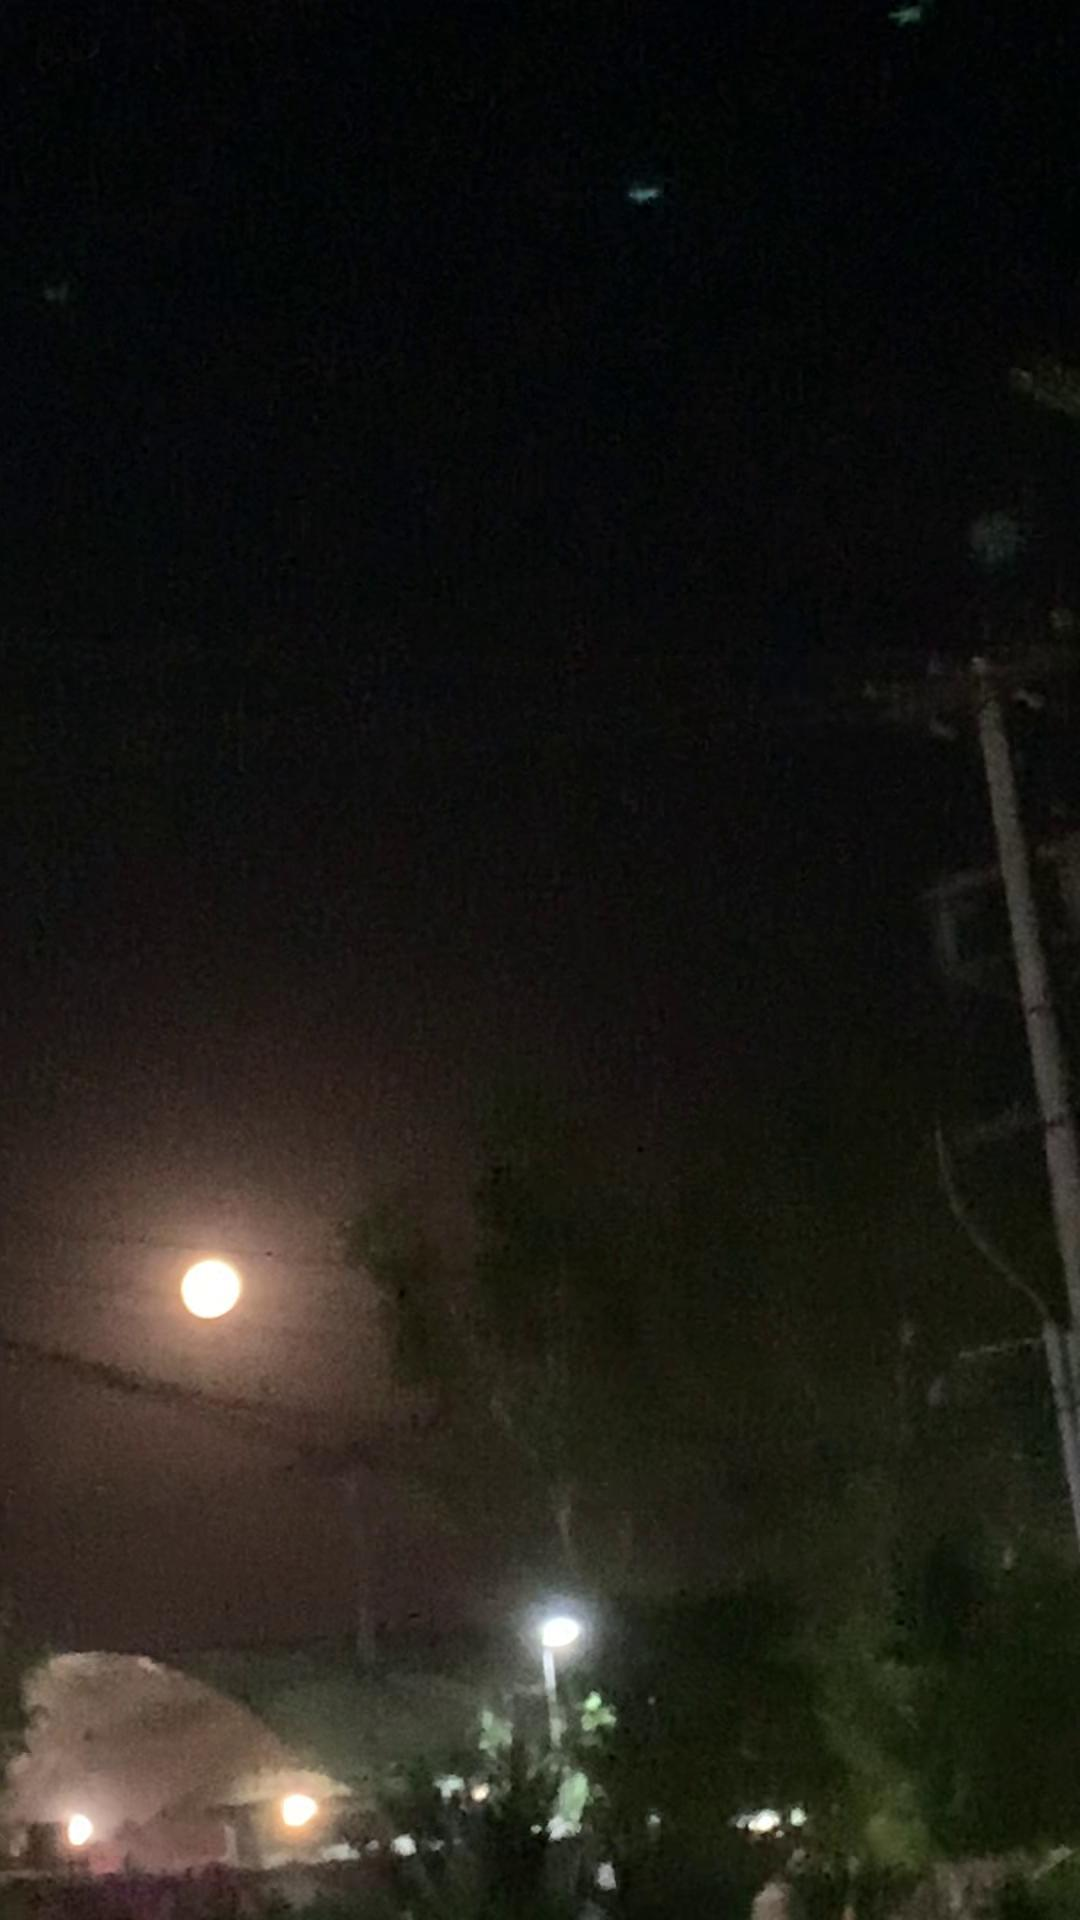moon: (162, 1222, 260, 1304)
